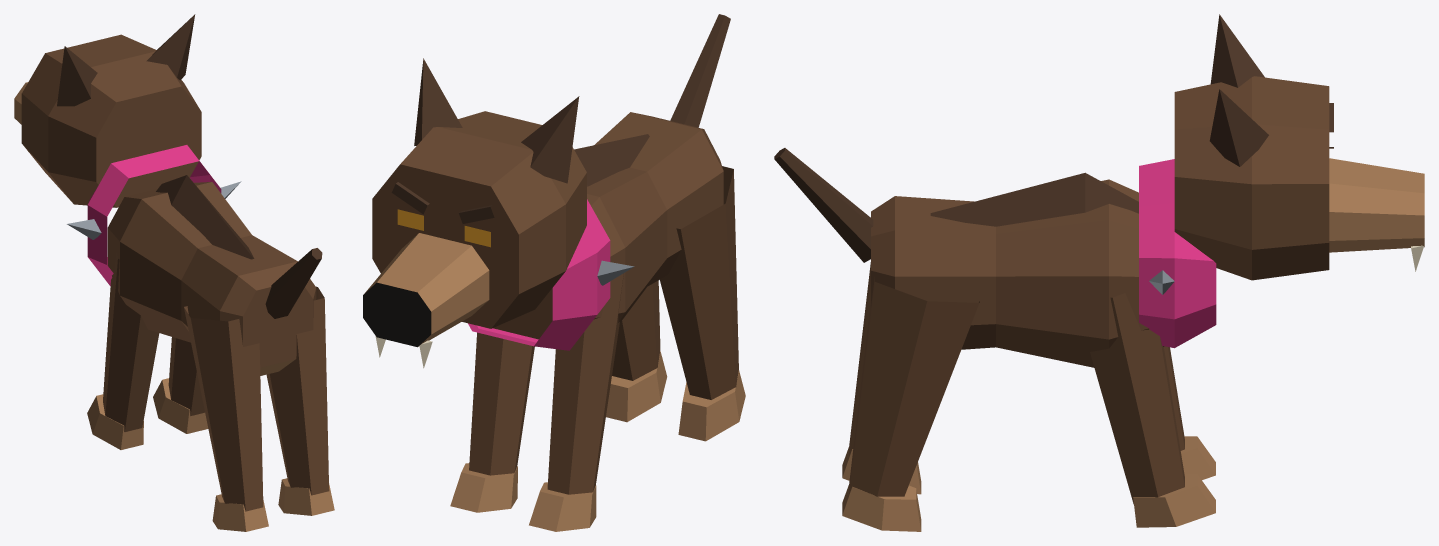
File: EN_PitCur.fbx
3 views of the same model, side by side, from view 1: azimuth 30°, elevation 25°; view 2: azimuth 150°, elevation 25°; view 3: azimuth 270°, elevation 25° (orthographic). The views are drawn at different scales.
Visible parts, largest first — view 1: Body, Head, LegL, LegR, ArmL, ArmR; view 2: Head, Body, LegL, ArmL, ArmR, LegR; view 3: Body, Head, LegR, ArmR, ArmL, LegL.
Part boxes in pixels (left/top/right/bottom): Body: left=67, top=145, right=322, bottom=375; Head: left=14, top=14, right=201, bottom=207; LegL: left=184, top=306, right=268, bottom=531; LegR: left=266, top=286, right=334, bottom=515; ArmL: left=87, top=253, right=159, bottom=449; ArmR: left=153, top=337, right=208, bottom=433; Head: left=363, top=58, right=586, bottom=368; Body: left=468, top=14, right=730, bottom=350; LegL: left=660, top=166, right=745, bottom=441; ArmL: left=529, top=273, right=623, bottom=531; ArmR: left=450, top=332, right=534, bottom=512; LegR: left=606, top=280, right=667, bottom=422; Body: left=774, top=148, right=1216, bottom=367; Head: left=1174, top=14, right=1424, bottom=280; LegR: left=842, top=277, right=979, bottom=531; ArmR: left=1090, top=293, right=1215, bottom=527; ArmL: left=1164, top=346, right=1215, bottom=479; LegL: left=842, top=262, right=921, bottom=494.
Bounding box in the file's own units: 0.361 × 0.9862 × 0.762.
